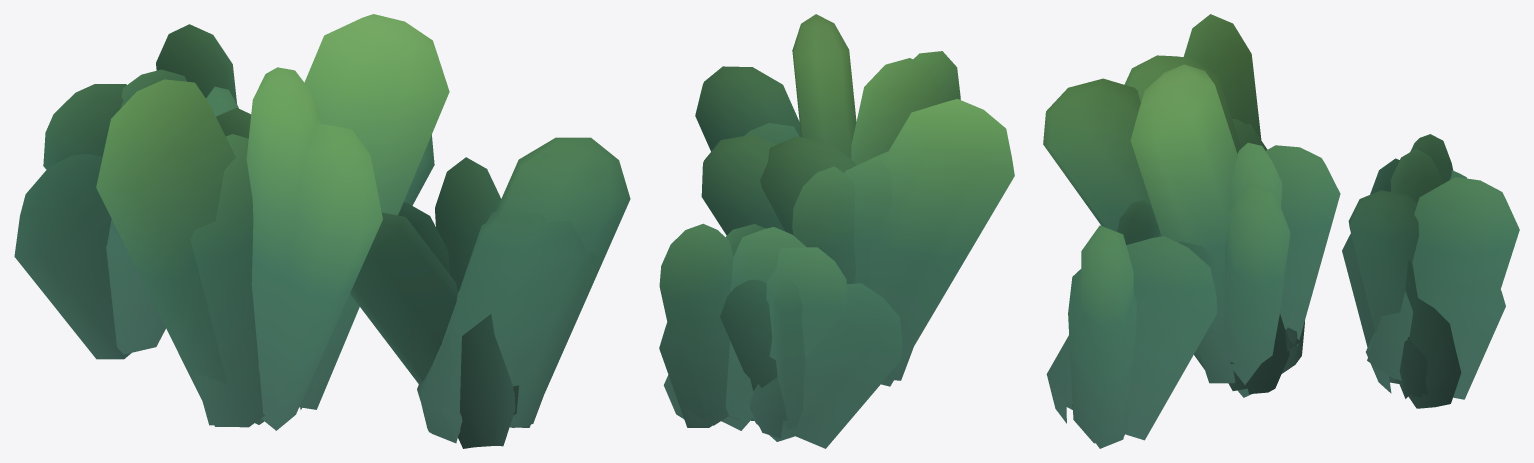
Rendered from shrub_a.glb.
3 renders of one model, left to right at view 1: azimuth 30°, elevation 25°; view 2: azimuth 150°, elevation 25°; view 3: azimuth 270°, elevation 25°, orthographic. The views are drawn at different scales.
Parts seen in each view (by area): view 1: shrub_a; view 2: shrub_a; view 3: shrub_a.
Boxes of the visible parts, bbox=[...] form: shrub_a: bbox=[14, 14, 630, 448]; shrub_a: bbox=[659, 14, 1014, 448]; shrub_a: bbox=[1043, 14, 1519, 448].
Bounding box in the file's own units: 0.9392 × 0.783 × 0.9858.
Materials: 1 (1 with a texture image).
